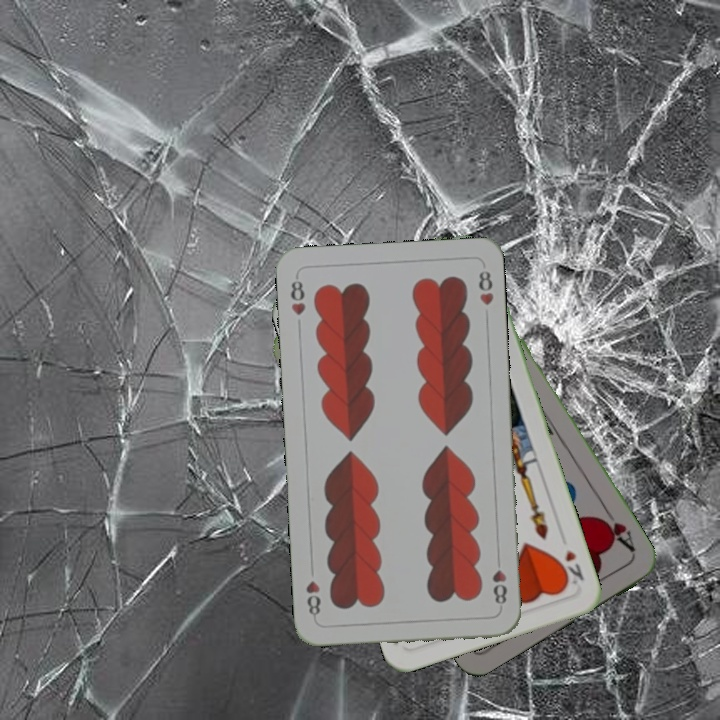H8: (287, 272, 308, 318), (488, 566, 509, 607)
HA: (594, 503, 638, 556)
HK: (554, 545, 587, 588)
